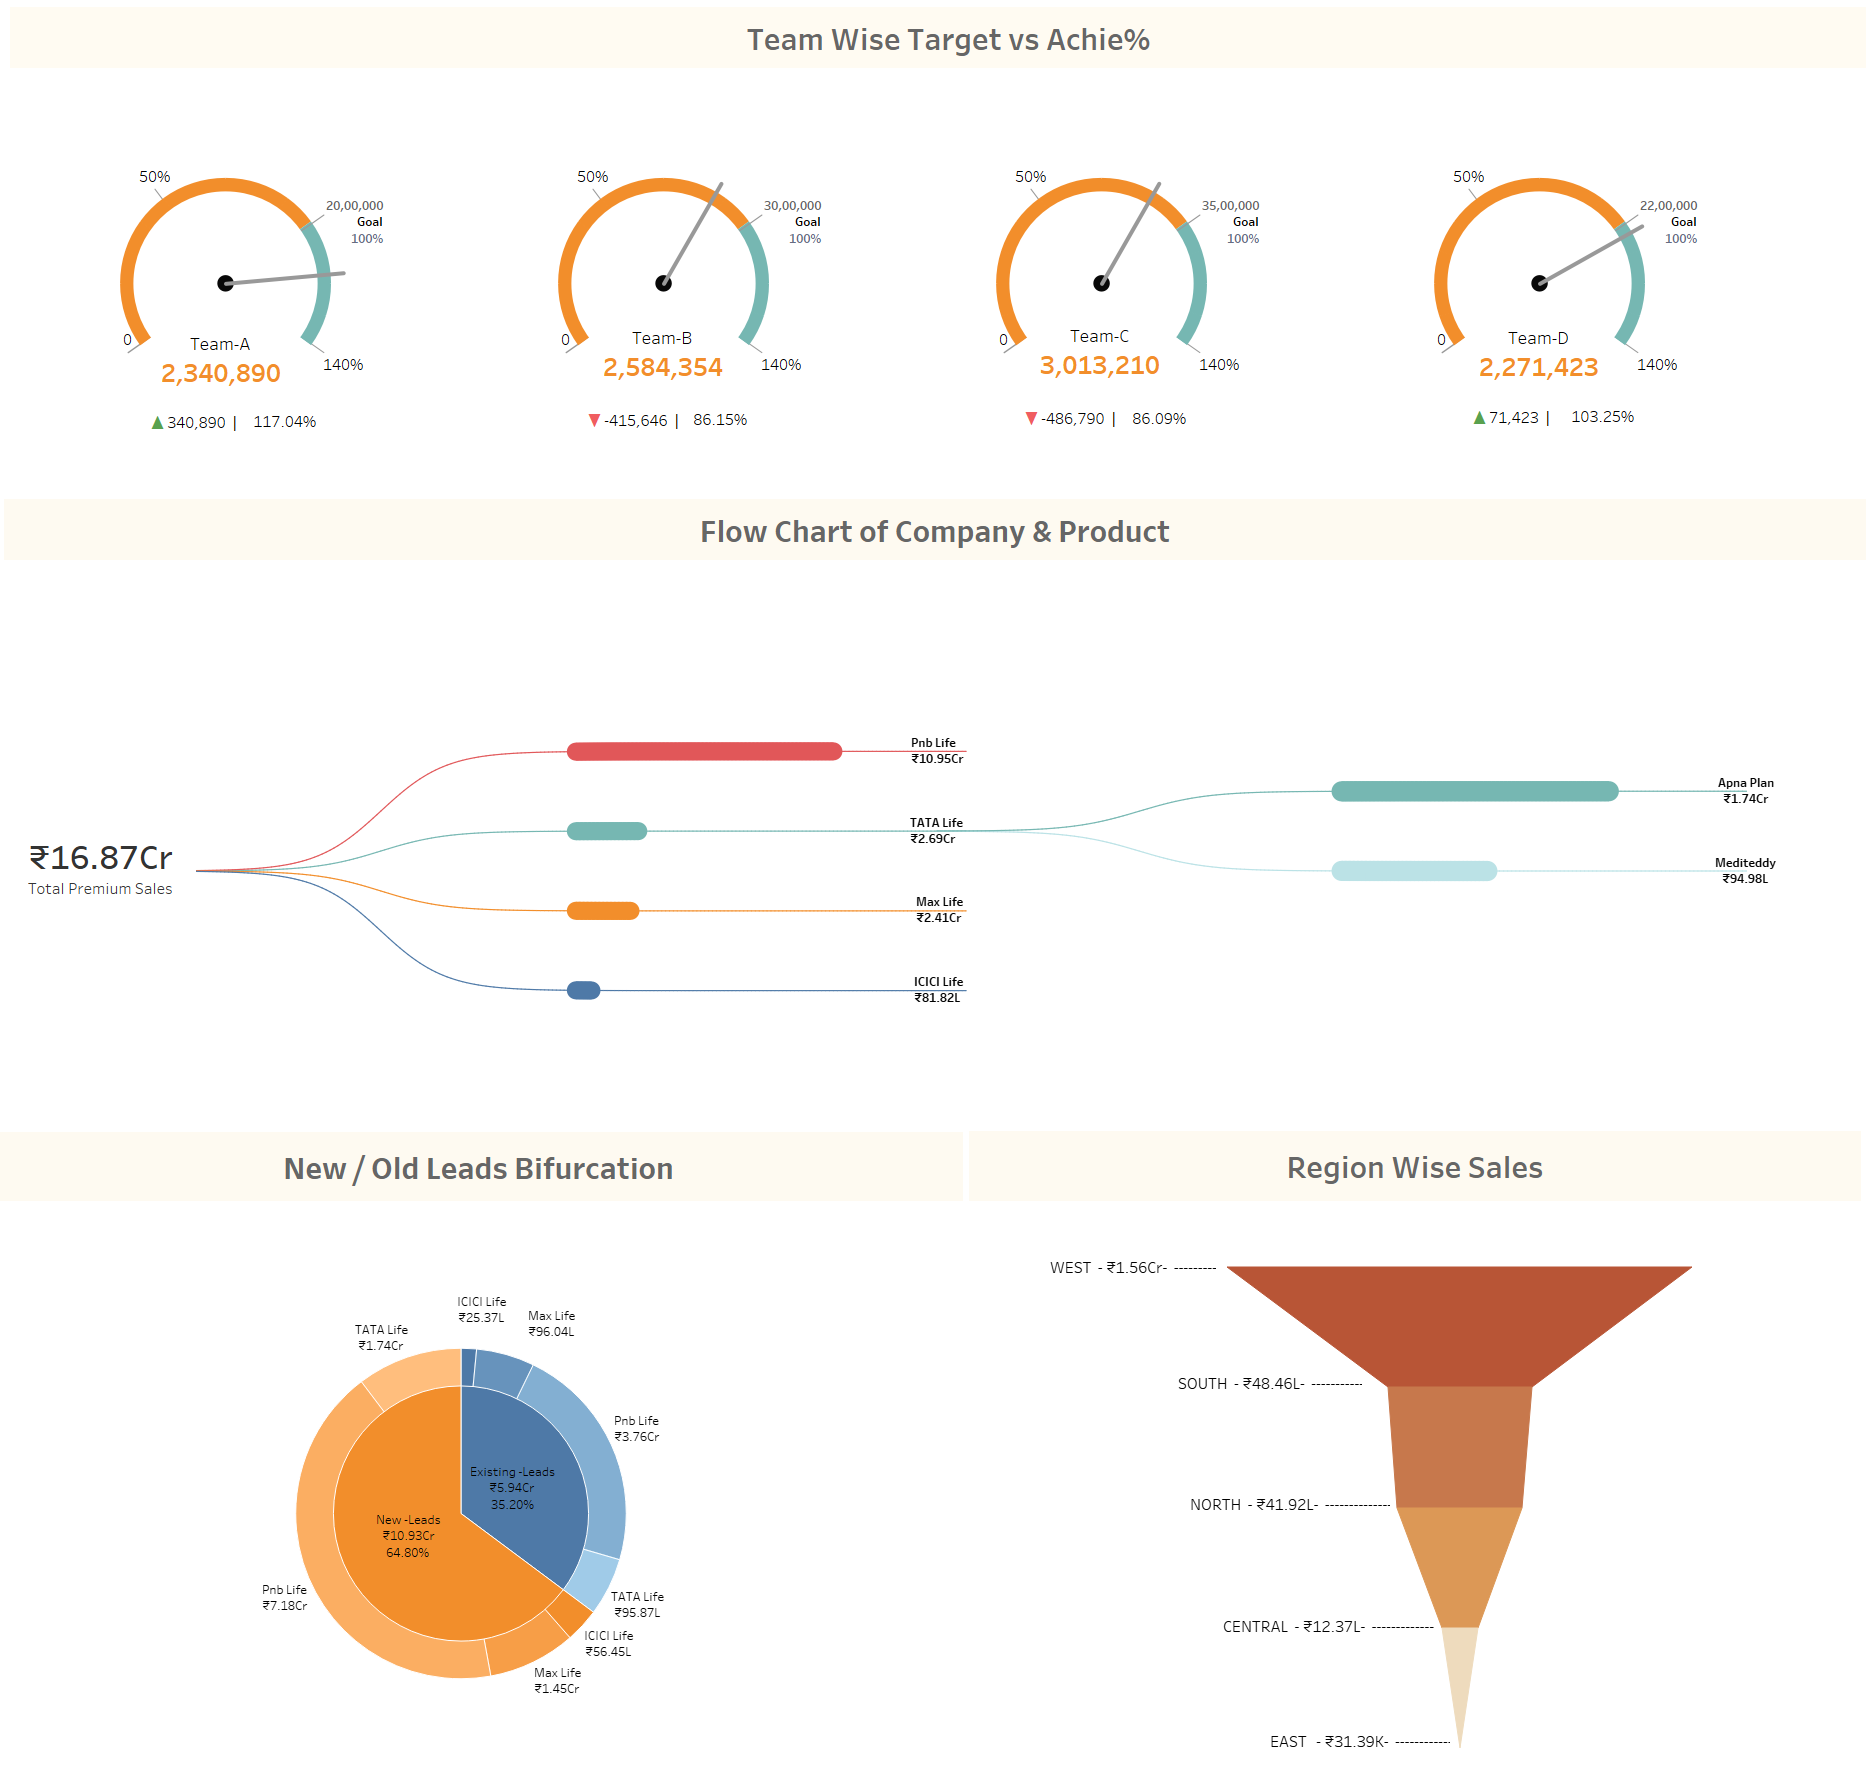

This screenshot's page, from the dashboard's own definition file:
{"tool":"tableau","page":{"name":"Over View","canvas":[1866,1668],"ordinal":2},"visuals":[{"type":"title","box":[8,8,1850,63]},{"type":"dashboard-object","box":[1194,12.3,164,49.1]},{"type":"filter","title":"Team A - Duplicate","param":"[federated.05op6m911i0bvi100g09i07n142y].[none:Date:ok]","box":[1642,12.3,214,49.1]},{"type":"worksheet","title":"Team A - Duplicate","mark":"Line","cols":["Earthquake"],"box":[8,71,1850,1589]},{"type":"worksheet","title":"Tree diagram for categaory","mark":"Line","box":[178,354.7,860,933.1]},{"type":"worksheet","title":"Tree","mark":"Line","box":[929,354.7,892,933.1]},{"type":"text","box":[4,470.8,1862,57.5]},{"type":"worksheet","title":"Total","mark":"Automatic","box":[7,706,188,224]},{"type":"text","box":[969,1067,892,66]},{"type":"worksheet","title":"funnel - label","mark":"Area","rows":["Region"],"cols":["Calculation_159596337844207620","Calculation_159596337844207620"],"box":[1050,1151,331,61.3]},{"type":"worksheet","title":"funnel - label (2)","mark":"Area","rows":["Region"],"cols":["Calculation_159596337844207620","Calculation_159596337844207620"],"box":[1178,1217,367,132.1]},{"type":"worksheet","title":"funnel - label (3)","mark":"Area","rows":["Region"],"cols":["Calculation_159596337844207620","Calculation_159596337844207620"],"box":[1190,1340.8,399,129.5]},{"type":"worksheet","title":"funnel - label (4)","mark":"Area","rows":["Region"],"cols":["Calculation_159596337844207620","Calculation_159596337844207620"],"box":[1223,1442.5,421,138.7]}]}

Visuals, with their boxes on the page's 1866x1668 design canvas (x1, y1, x2, y2). These are canvas units, not pixel positions in the 1866x1768 screenshot, which may show the page scaled, cropped or inside an application window:
title: <bbox>8, 8, 1858, 71</bbox>
dashboard-object: <bbox>1194, 12, 1358, 61</bbox>
"Team A - Duplicate" filter: <bbox>1642, 12, 1856, 61</bbox>
"Team A - Duplicate" worksheet (Line marks): <bbox>8, 71, 1858, 1660</bbox>
"Tree diagram for categaory" worksheet (Line marks): <bbox>178, 355, 1038, 1288</bbox>
"Tree" worksheet (Line marks): <bbox>929, 355, 1821, 1288</bbox>
text: <bbox>4, 471, 1866, 528</bbox>
"Total" worksheet: <bbox>7, 706, 195, 930</bbox>
text: <bbox>969, 1067, 1861, 1133</bbox>
"funnel - label" worksheet (Area marks): <bbox>1050, 1151, 1381, 1212</bbox>
"funnel - label (2)" worksheet (Area marks): <bbox>1178, 1217, 1545, 1349</bbox>
"funnel - label (3)" worksheet (Area marks): <bbox>1190, 1341, 1589, 1470</bbox>
"funnel - label (4)" worksheet (Area marks): <bbox>1223, 1442, 1644, 1581</bbox>
